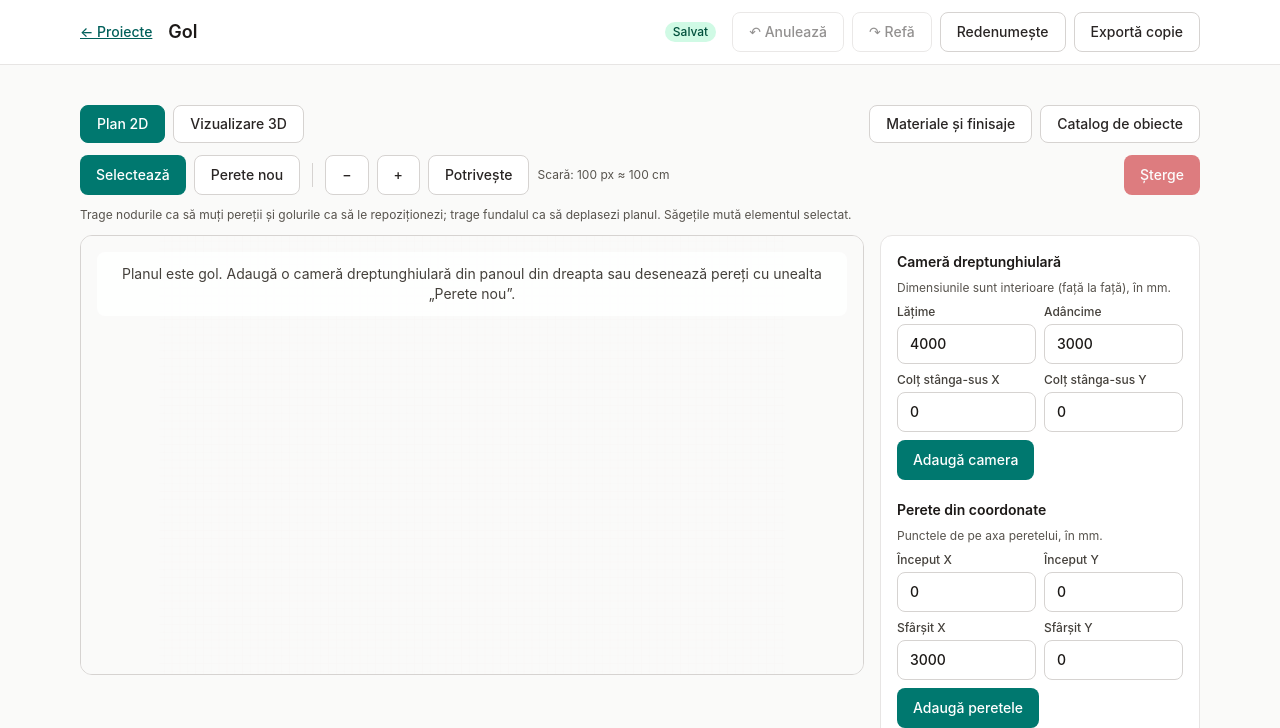
Test: panoul „Materiale și finisaje”: țintă, listă, căutare › fără camere și fără obiect: mesaj de ajutor, nu un panou gol
Click the button with test id "materials-toggle": (951, 124) left=869, top=105, right=1032, bottom=143
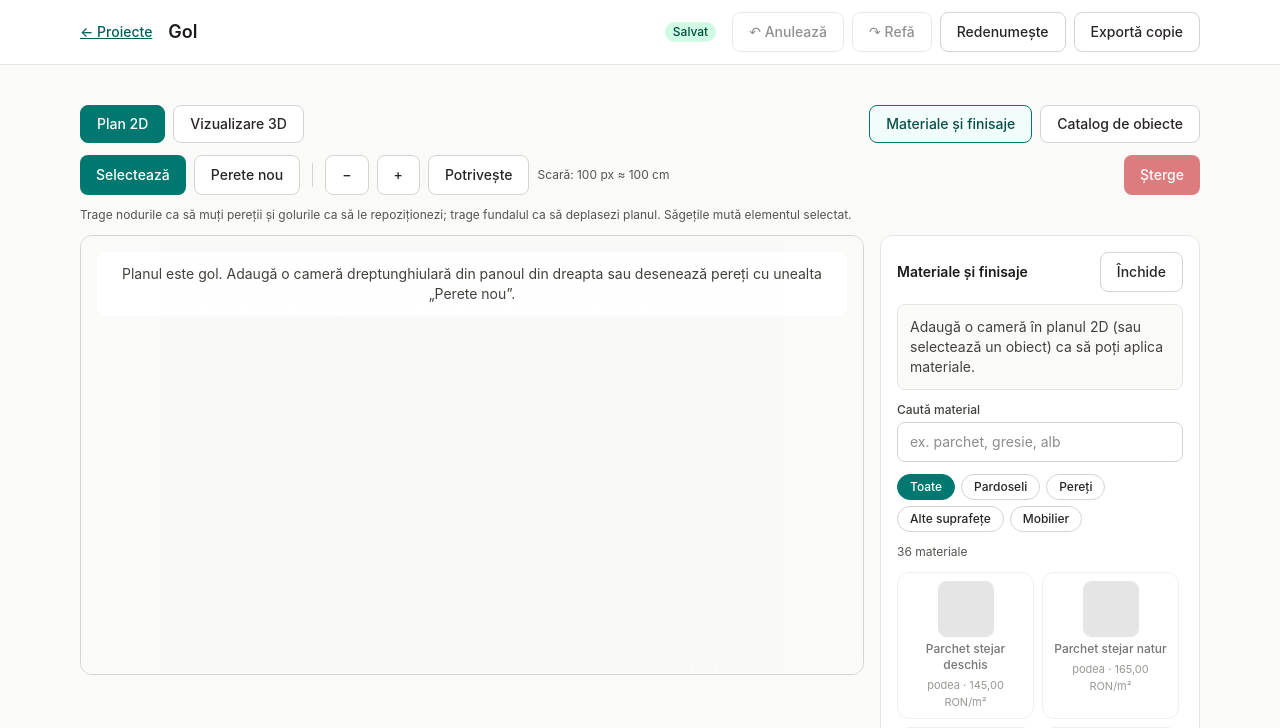
Result: the text with test id "materials-no-target" shows "Adaugă o cameră" at left=910, top=318, right=1163, bottom=375
